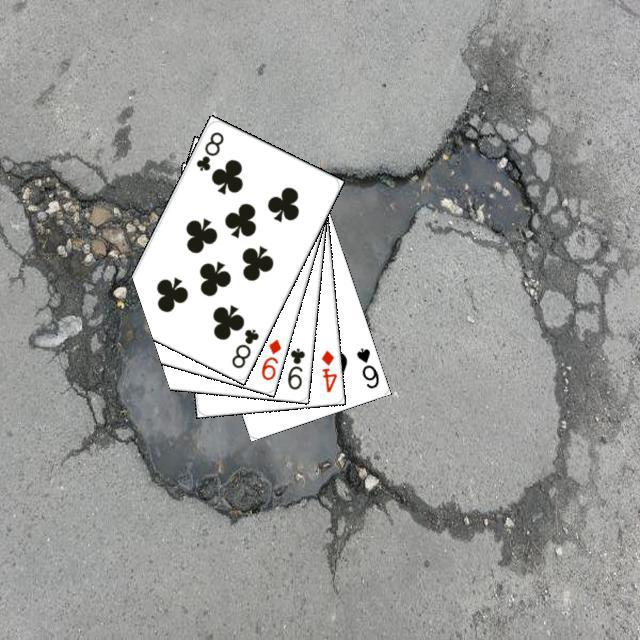4d: (316, 345, 338, 394)
6s: (351, 343, 381, 390)
8c: (191, 126, 226, 173), (226, 324, 261, 370)
9c: (283, 343, 306, 391)
9d: (256, 334, 283, 382)
